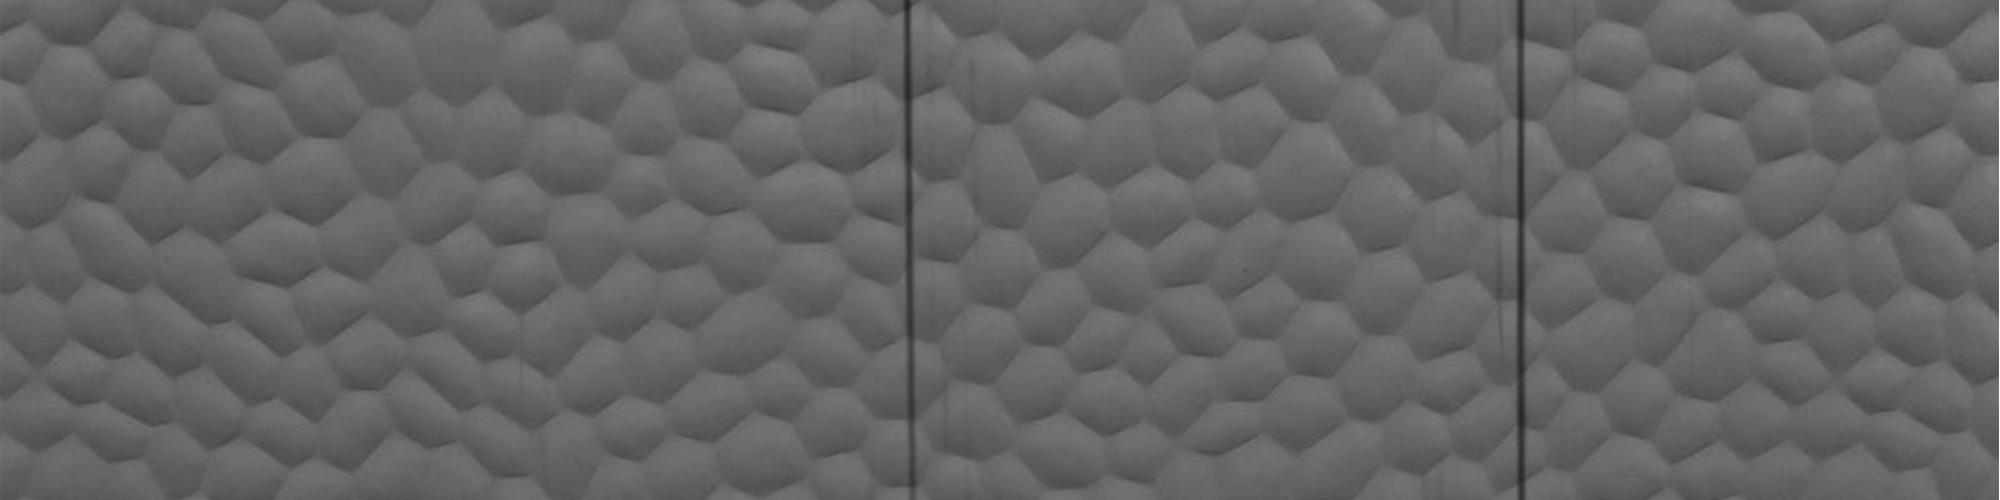DieDrag: (858, 5, 969, 491), (1474, 4, 1562, 497)
